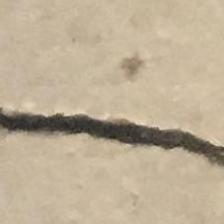Crack: (0, 93, 224, 191)
